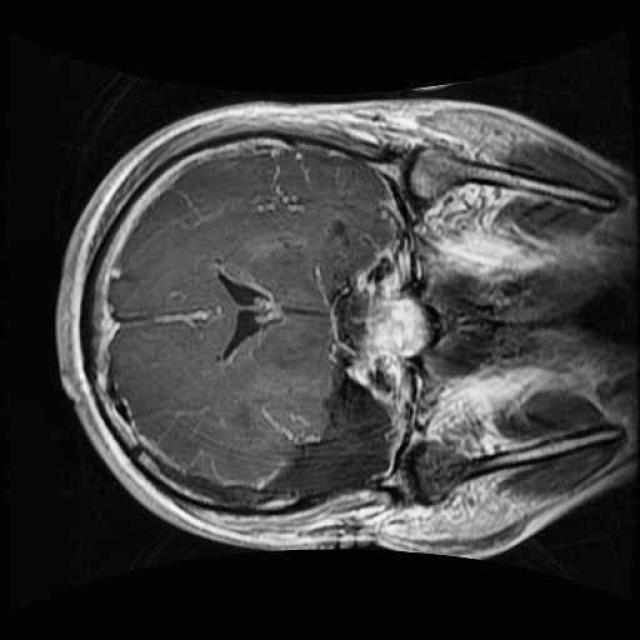Tumor: (142, 342, 427, 552)
